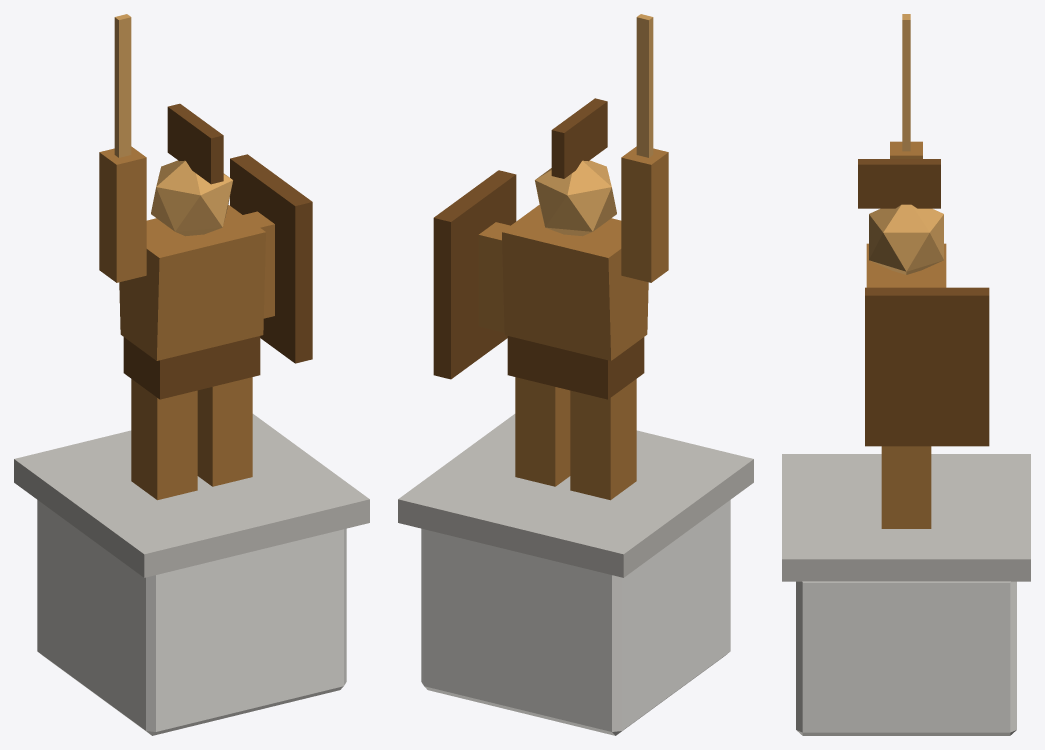
The model's file is PR_Statue.fbx.
The picture shows the model from 3 angles, left to right: view 1: azimuth 30°, elevation 25°; view 2: azimuth 150°, elevation 25°; view 3: azimuth 270°, elevation 25°; orthographic projection. The views are drawn at different scales.
Parts seen in each view (by area): view 1: PR_Statue; view 2: PR_Statue; view 3: PR_Statue.
Part boxes in pixels (left/top/right/bottom): PR_Statue: left=14, top=14, right=369, bottom=735; PR_Statue: left=398, top=14, right=753, bottom=735; PR_Statue: left=782, top=14, right=1030, bottom=735.
Size of the model in its own units: 1.8 by 1.8 by 5.13.
